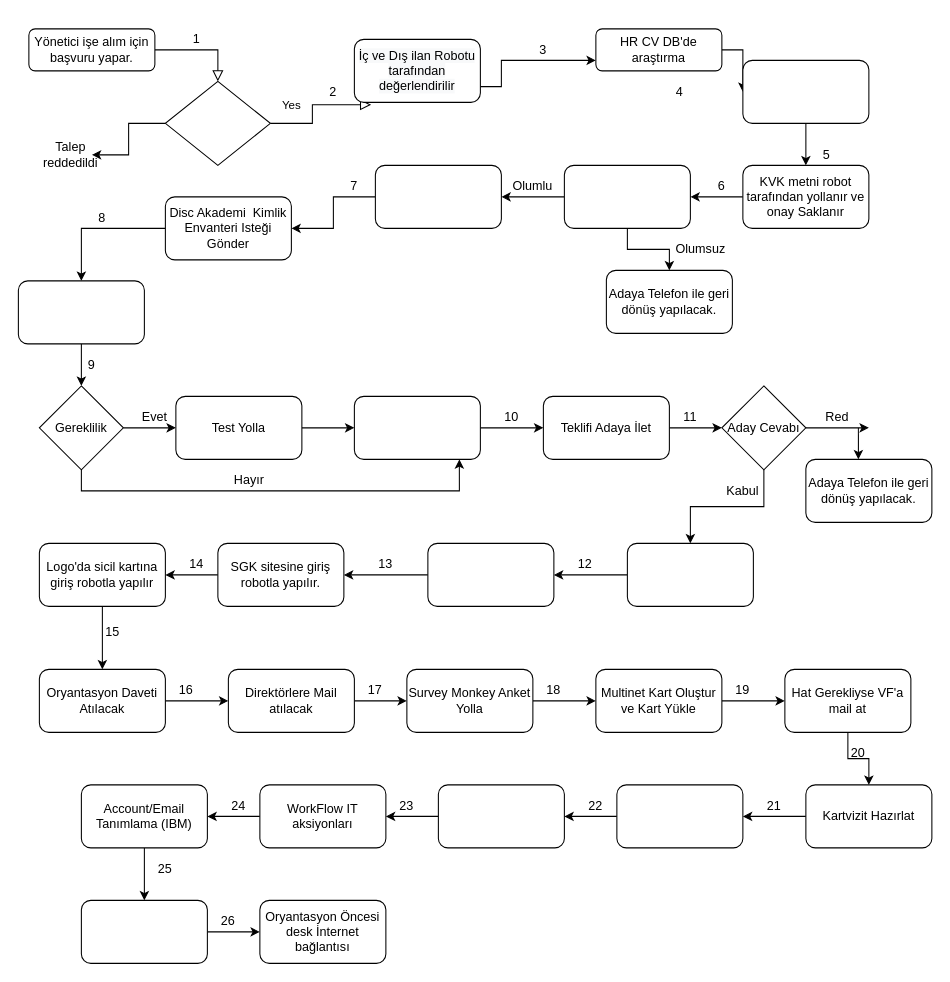
Some shapes in this 950 by 982 pixel diagram are drawn without their labels. The centre of each missing label's shape, as x and y in pixels:
Aday Teklifi Kabulü: the point at 217,122
Araba, taşıtmatik, Otopark Kartı: the point at 679,816
Bordro'dan Teklif Bilgilerini Al: the point at 416,427
Evrak Kontrol: the point at 490,574
Görüşme Teklifi: the point at 626,196
Ingilizce Testi: the point at 80,312
Laptop/Phone teslim: the point at 143,931
Referans kontrol aşaması ve saklanır: the point at 437,196
Short List Hazırla ve Yöneticiye Yolla: the point at 805,91
Welcome Kiti: the point at 500,816
WorkFlow başlat: the point at 689,574
